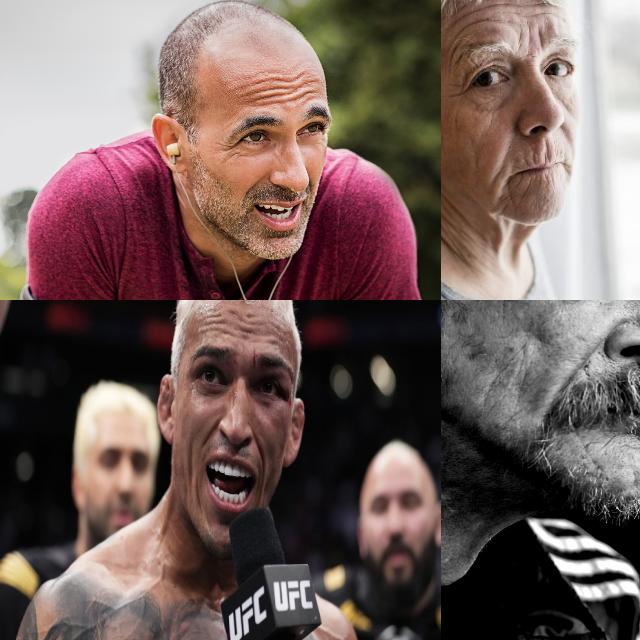chin: (516, 172, 560, 192), (496, 188, 514, 216)
crows_feet: (448, 80, 474, 100), (220, 140, 240, 158)
forehead: (200, 309, 227, 338), (454, 5, 484, 31), (252, 78, 276, 104), (445, 39, 465, 69), (283, 76, 301, 104), (238, 318, 255, 347), (304, 74, 320, 102), (530, 4, 552, 20), (488, 0, 516, 12)
frown_line: (514, 26, 526, 52), (534, 26, 546, 50)
gummy_smile: (254, 439, 268, 475), (244, 174, 266, 196), (202, 422, 216, 447), (490, 164, 504, 186)
masseter: (195, 485, 202, 512)
smoker_lines: (526, 140, 560, 158)
